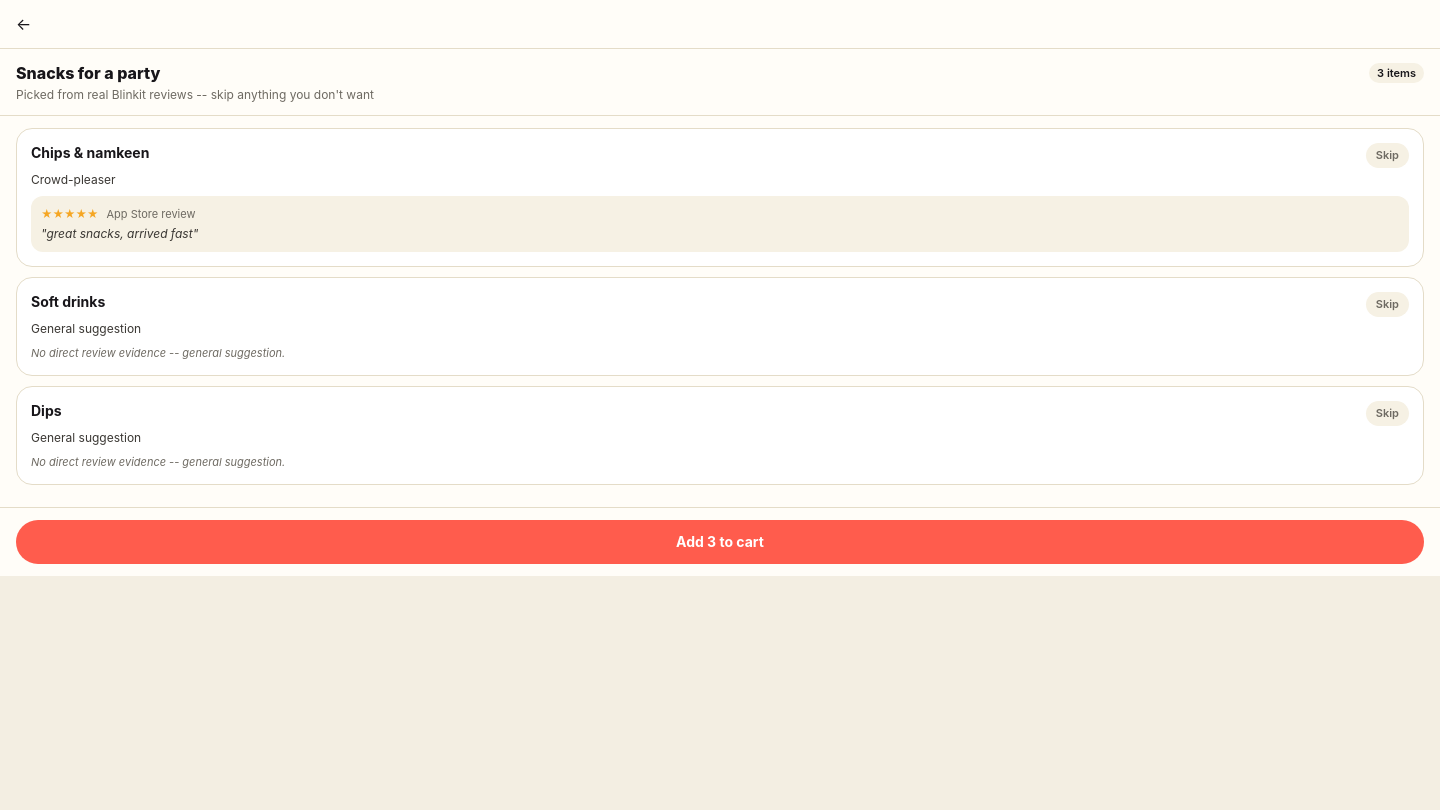
it: Result screen skip/undo -- regression coverage for the flow verified manually during QA review › disables the cart button and reads 'Nothing selected' once every item is skipped
Click the button "Skip" in the row of "Chips & namkeen": point(1387, 155) [1366,143,1409,168]
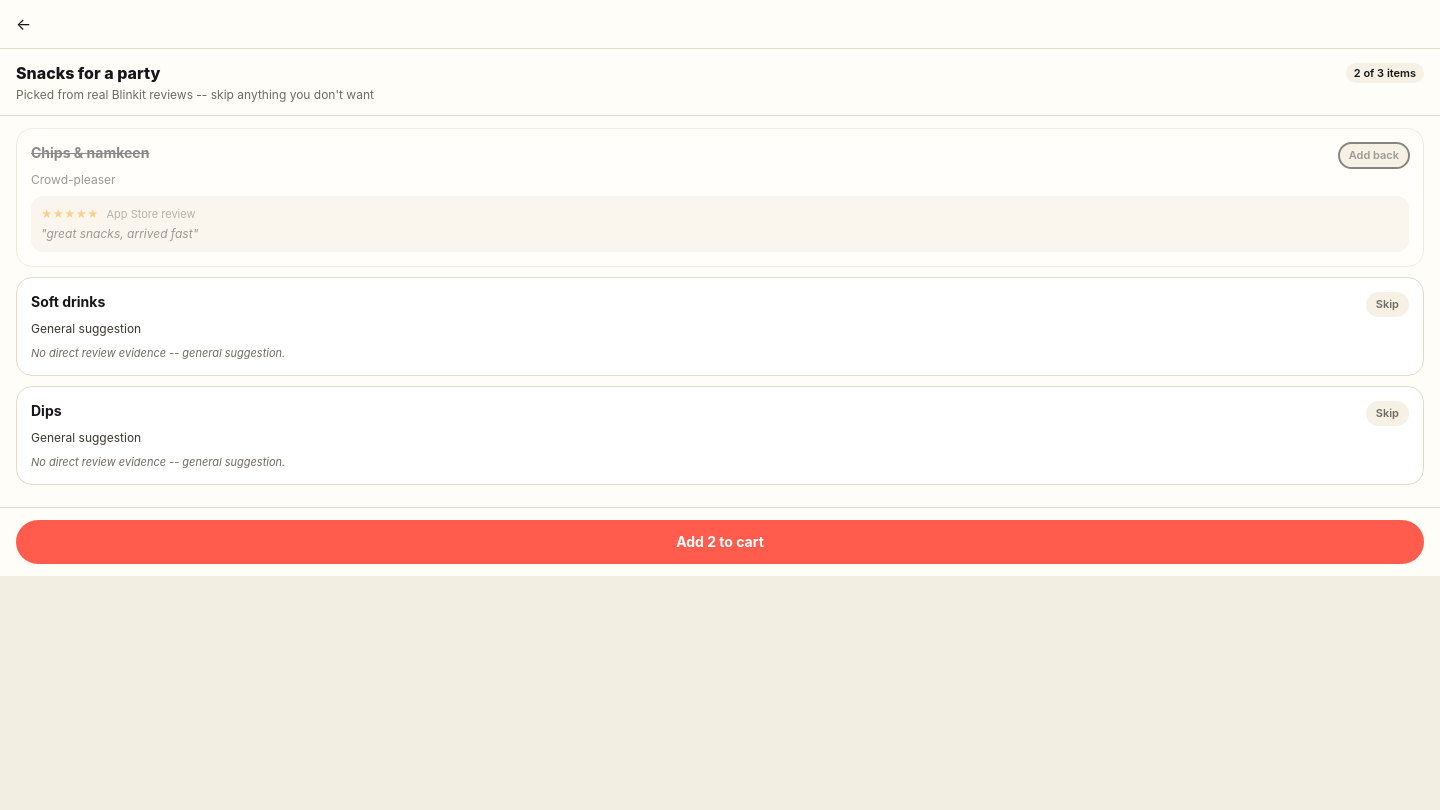
Click the button "Skip" in the row of "Soft drinks": point(1387, 304) [1366,292,1409,316]
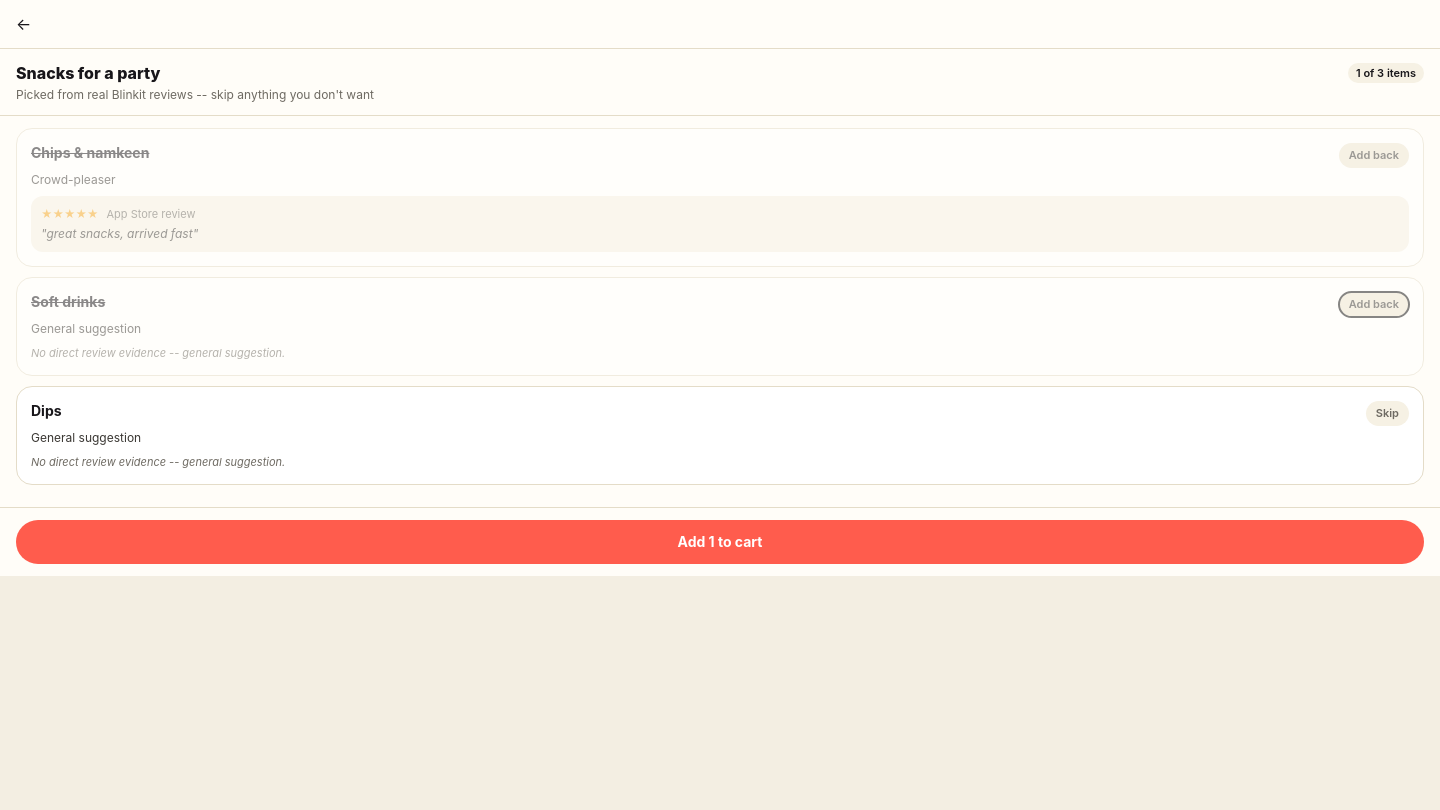
Click the button "Skip": point(1387, 413) [1366,401,1409,426]
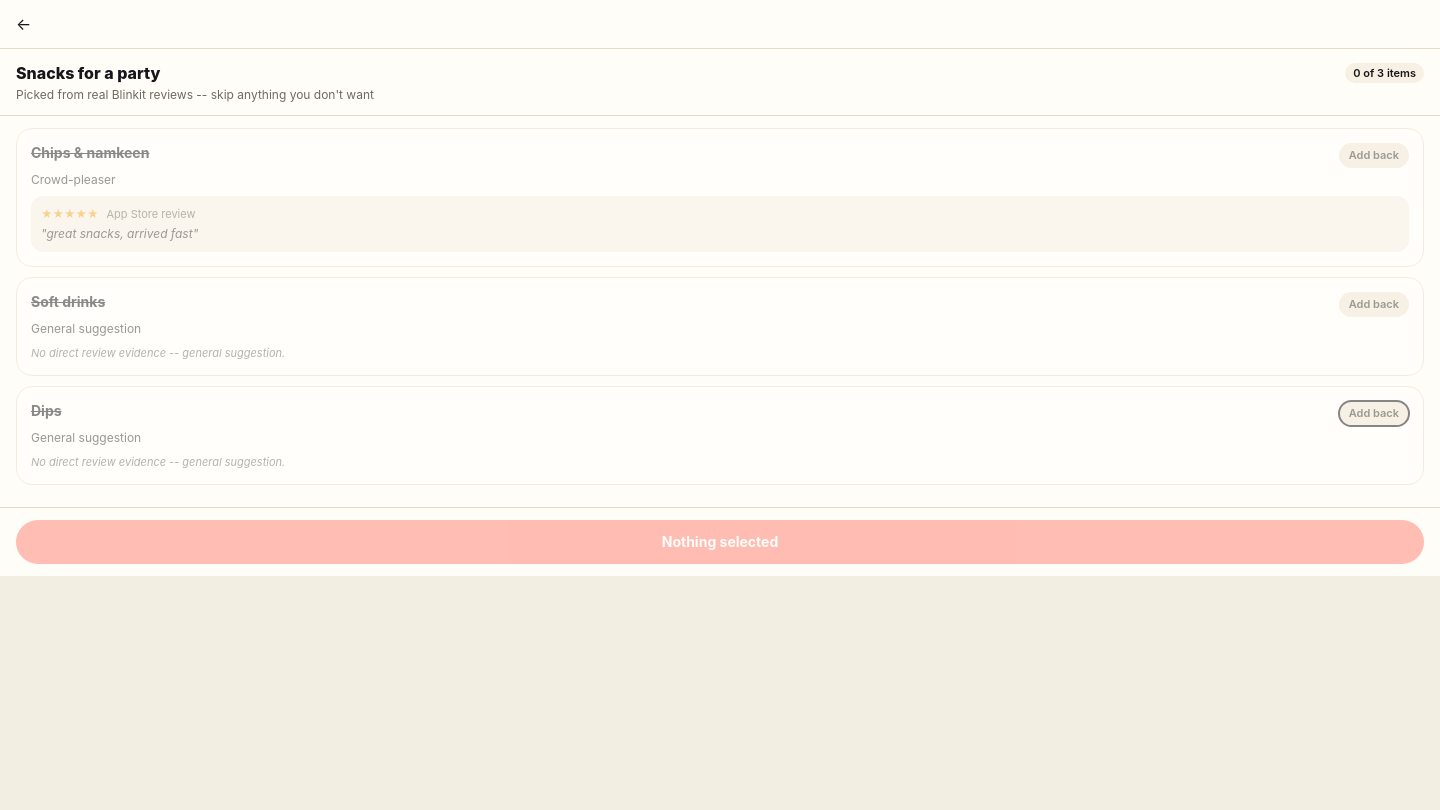
expect the button "Nothing selected" is disabled: met, box [16,520,1424,564]
